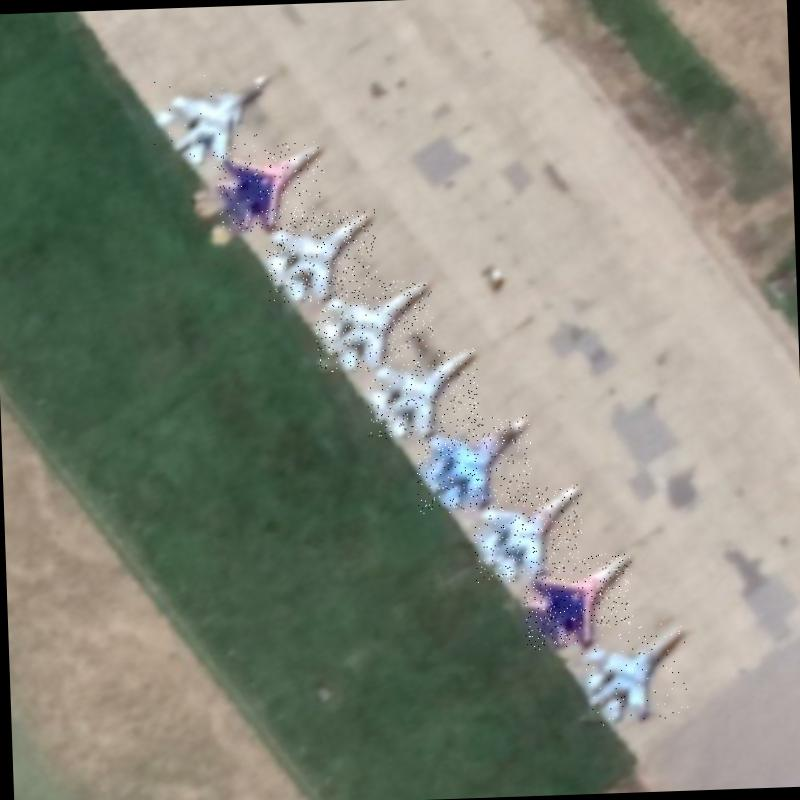A1: (415, 414, 533, 514), (577, 622, 688, 726), (314, 278, 434, 372), (472, 482, 584, 582), (522, 552, 634, 650), (264, 208, 378, 303), (213, 140, 327, 233), (366, 347, 480, 439)
A19: (150, 73, 274, 166)
